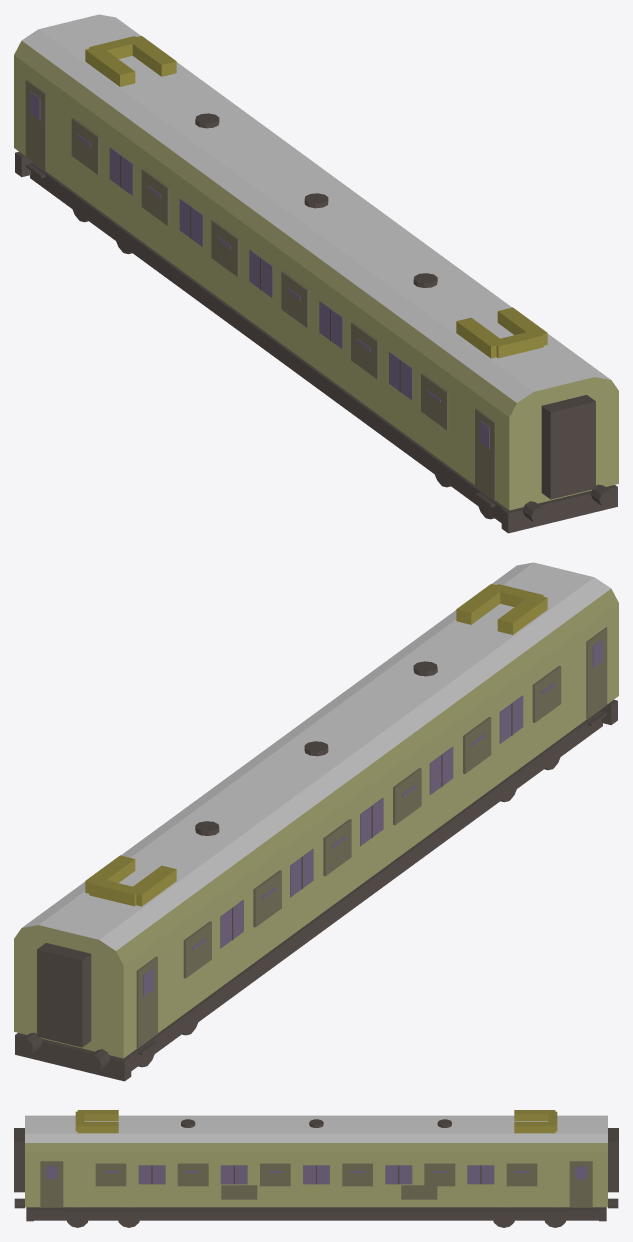
Rendered from SM_Vagon_Cercano_v1_LOD0.fbx.
3 renders of one model, top to bottom at view 1: azimuth 30°, elevation 25°; view 2: azimuth 150°, elevation 25°; view 3: azimuth 270°, elevation 25°, orthographic. The views are drawn at different scales.
Parts seen in each view (by area): view 1: SM_bloques.vagon_cercano_v1_LOD0, Ventanillas; view 2: SM_bloques.vagon_cercano_v1_LOD0, Ventanillas; view 3: SM_bloques.vagon_cercano_v1_LOD0, Ventanillas.
Boxes of the visible parts, x1,y1,x2,y2 form: SM_bloques.vagon_cercano_v1_LOD0: (14, 14, 618, 533); Ventanillas: (30, 91, 489, 449); SM_bloques.vagon_cercano_v1_LOD0: (14, 562, 618, 1081); Ventanillas: (143, 639, 602, 997); SM_bloques.vagon_cercano_v1_LOD0: (14, 1110, 618, 1227); Ventanillas: (46, 1165, 586, 1184).
Size of the model in its own units: 3.08 by 4.3 by 23.55.
